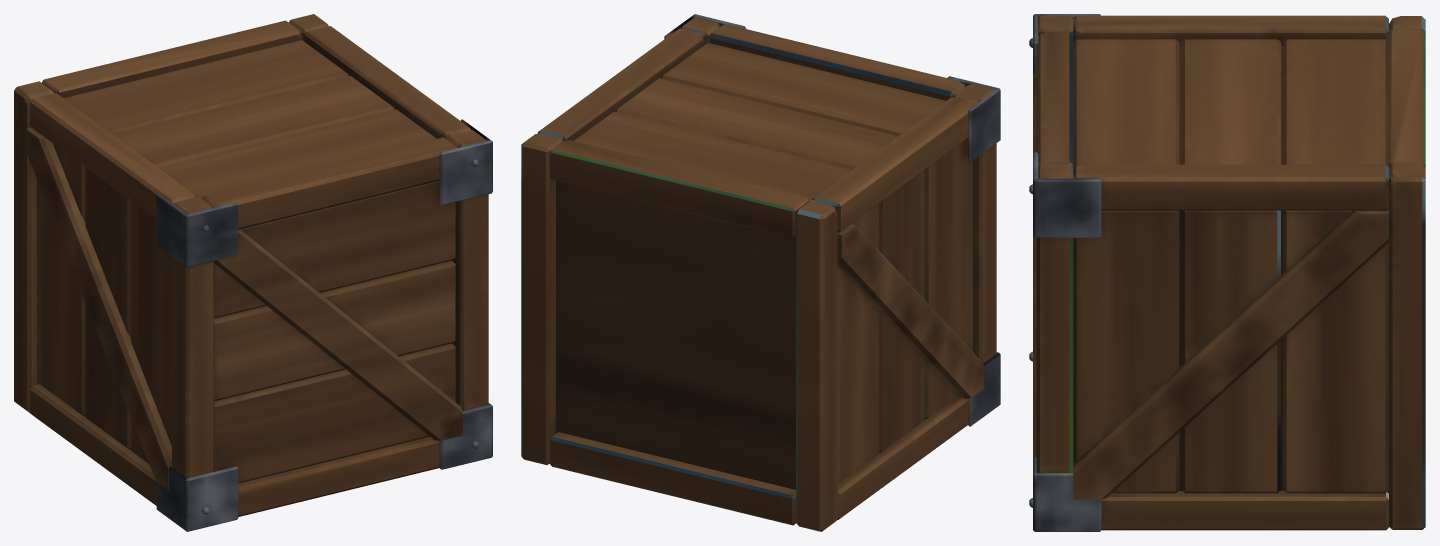
Rendered from ENV_Crate.fbx.
The picture shows the model from 3 angles, left to right: view 1: azimuth 30°, elevation 25°; view 2: azimuth 150°, elevation 25°; view 3: azimuth 270°, elevation 25°; orthographic projection. The views are drawn at different scales.
Parts seen in each view (by area): view 1: ENV_Crate; view 2: ENV_Crate; view 3: ENV_Crate.
Part boxes in pixels (x1=…): ENV_Crate: x1=14, y1=14, x2=492, y2=531; ENV_Crate: x1=521, y1=14, x2=1000, y2=531; ENV_Crate: x1=1029, y1=14, x2=1425, y2=531.
Size of the model in its own units: 0.916 by 0.9 by 0.917.
